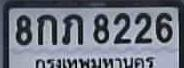2: (112, 12, 130, 43), (134, 11, 151, 42)
6: (155, 12, 171, 42)
8: (15, 14, 31, 44), (93, 13, 108, 43)
A01: (36, 14, 56, 44)
A32: (61, 13, 83, 44)
BKK: (34, 54, 155, 68)
